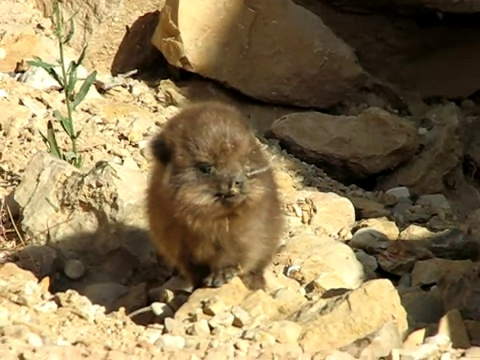Rock Hyrex: (147, 102, 282, 297)
